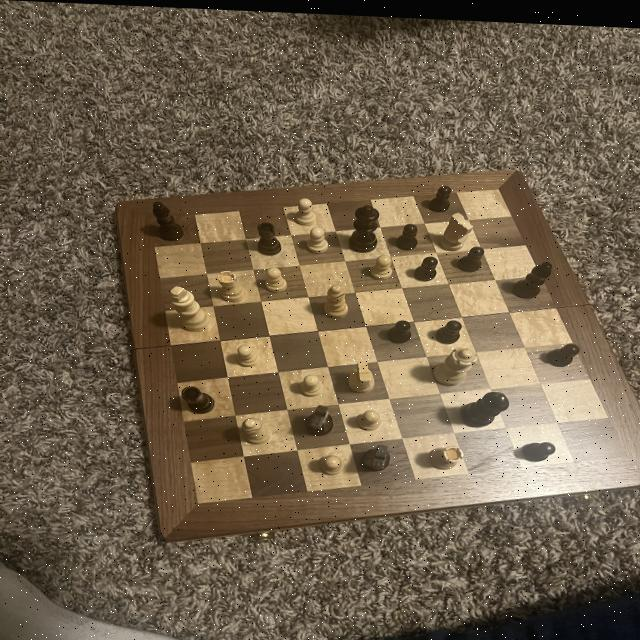bishop: (509, 251, 554, 301), (150, 199, 186, 243)
black-bishop: (456, 383, 511, 428)
black-king: (299, 398, 338, 436), (358, 438, 394, 471)
black-knight: (542, 335, 584, 365), (518, 433, 558, 461), (453, 238, 486, 271), (383, 313, 416, 345), (392, 218, 421, 253), (409, 249, 440, 280), (425, 179, 454, 212), (433, 315, 465, 343)
black-pawn: (342, 197, 383, 252)
black-queen: (177, 382, 218, 417), (252, 217, 284, 257)
black-rook: (318, 279, 352, 319), (239, 413, 275, 445)
white-bishop: (162, 284, 218, 334)
white-king: (435, 205, 475, 252), (345, 356, 380, 391)
white-knight: (289, 193, 322, 226), (367, 249, 398, 281), (312, 450, 348, 476), (260, 263, 292, 292), (302, 221, 331, 253), (293, 370, 327, 397), (232, 343, 266, 369), (349, 405, 382, 430)
white-pawn: (424, 340, 483, 387)
white-queen: (217, 266, 251, 307), (426, 438, 464, 469)
